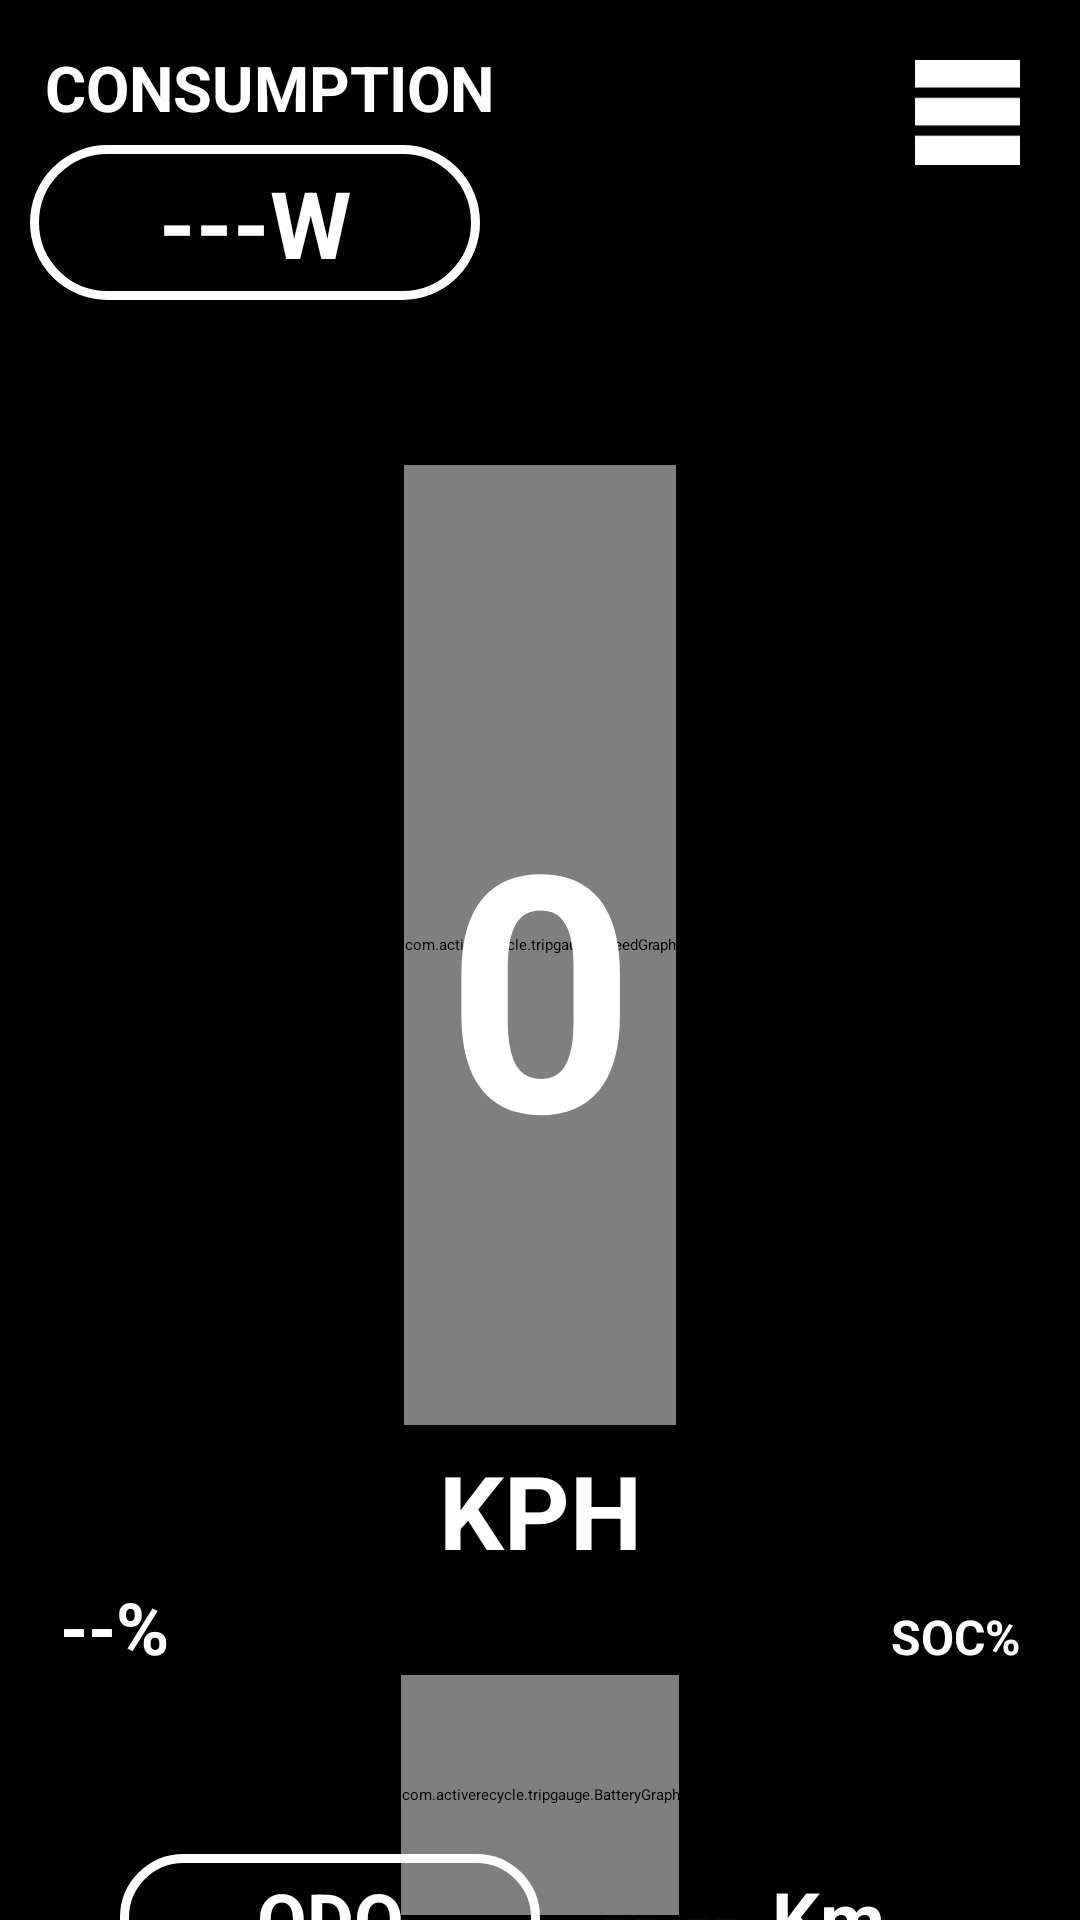

Where icons sit on this 1080 × 1920 app screen, as box=[x1, y1, x2, y2]:
menu: box=[915, 60, 1020, 165]
